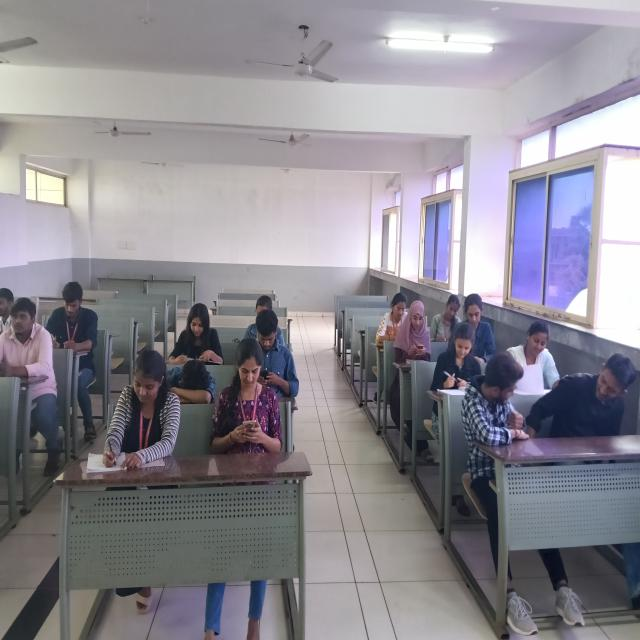Reading: (163, 298, 229, 368), (509, 314, 562, 398)
Sleeping: (161, 352, 219, 410)
Using Phone: (211, 335, 282, 450), (251, 306, 301, 401), (394, 298, 433, 363)
Writing: (98, 342, 178, 469), (42, 279, 104, 364), (433, 321, 483, 394), (430, 287, 465, 346)
